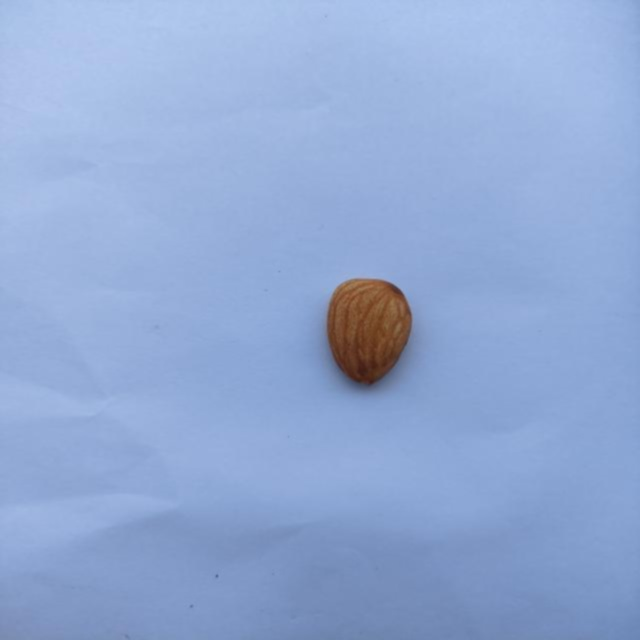grade1: (317, 272, 418, 393)
